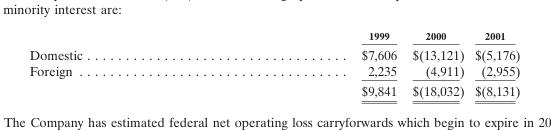table: (28, 28, 519, 98)
table column: (28, 28, 221, 98), (221, 28, 403, 98), (403, 28, 468, 98), (468, 28, 519, 98)
table column header: (28, 28, 519, 43)
table row: (28, 43, 519, 62), (28, 62, 519, 80), (28, 80, 519, 98), (28, 28, 519, 43)
